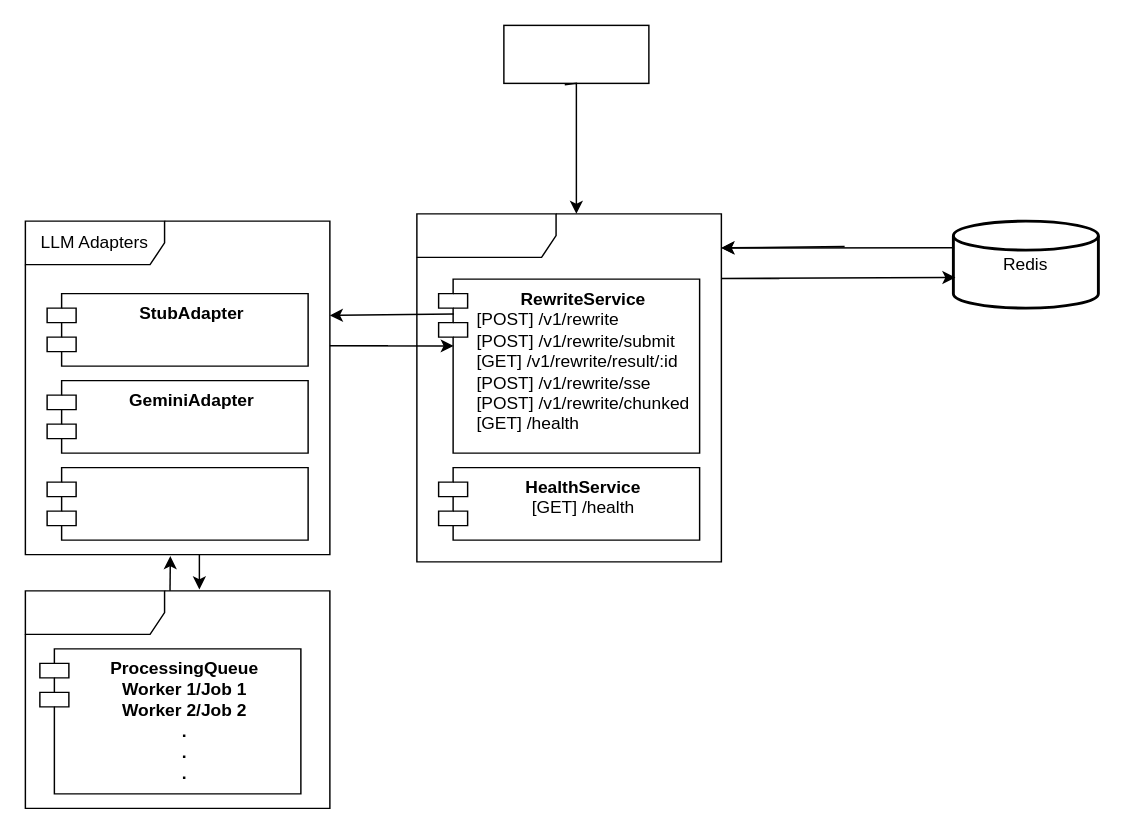
Image size: 1125x834. Some labels were removed from this diagram. The box of each missing label's shape, as (x1, y1, x2, y2) in pixels:
FastAPI app: (415, 212, 721, 562)
JobScheduler: (24, 589, 330, 808)
OpenAiAdapter: (46, 466, 308, 540)
Request: (502, 24, 649, 83)
